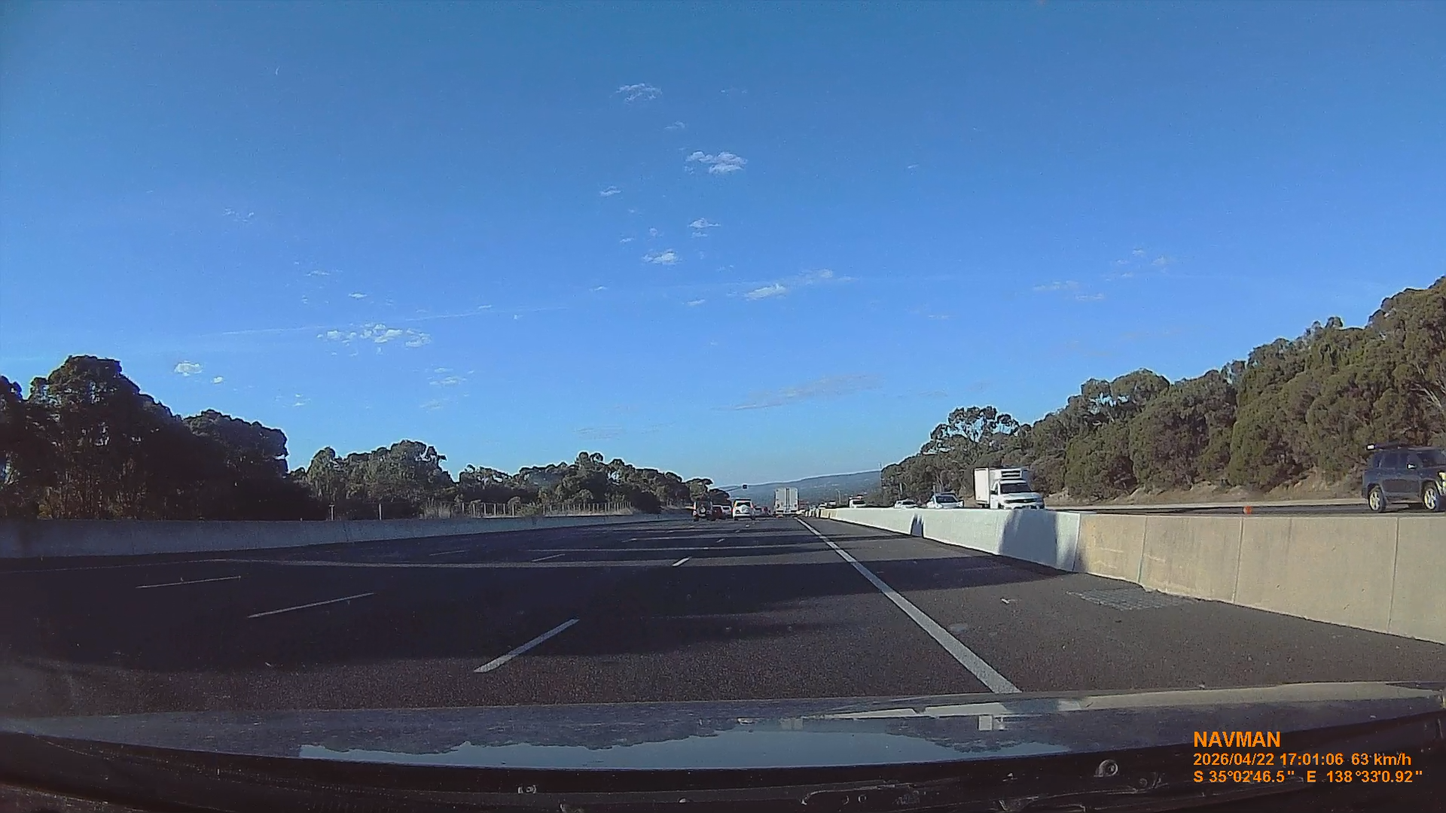road barriers: (828, 508, 1445, 679), (0, 515, 661, 559)
